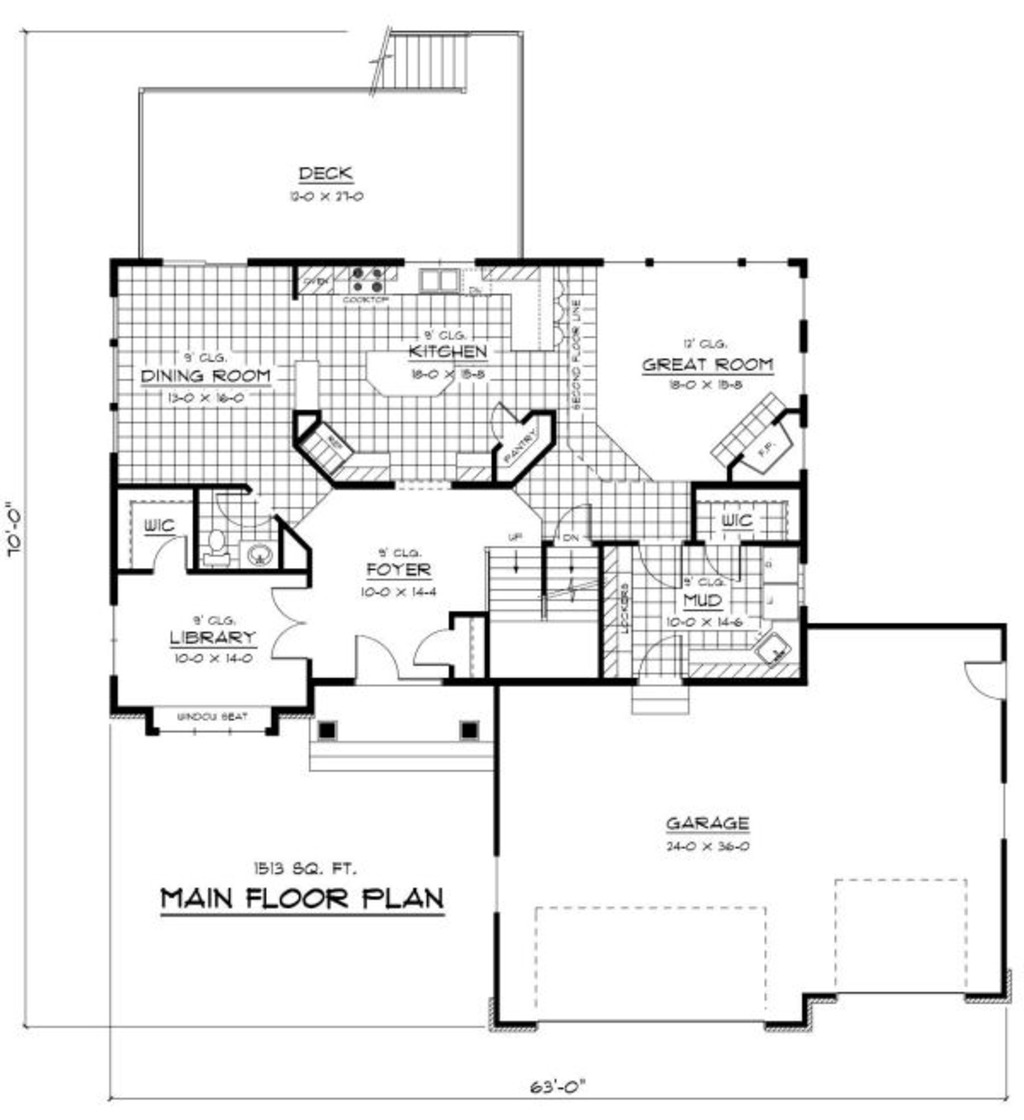door: (268, 585, 318, 665), (630, 541, 689, 594), (955, 658, 1017, 707), (353, 632, 406, 683), (145, 528, 195, 570), (410, 626, 456, 665)
kitchen_bar: (362, 349, 456, 396)
stairs: (487, 539, 602, 680), (358, 21, 465, 88), (624, 671, 705, 721)
twin_sink: (409, 266, 461, 296)
windows: (591, 252, 786, 270), (104, 593, 122, 678), (110, 290, 118, 457)
